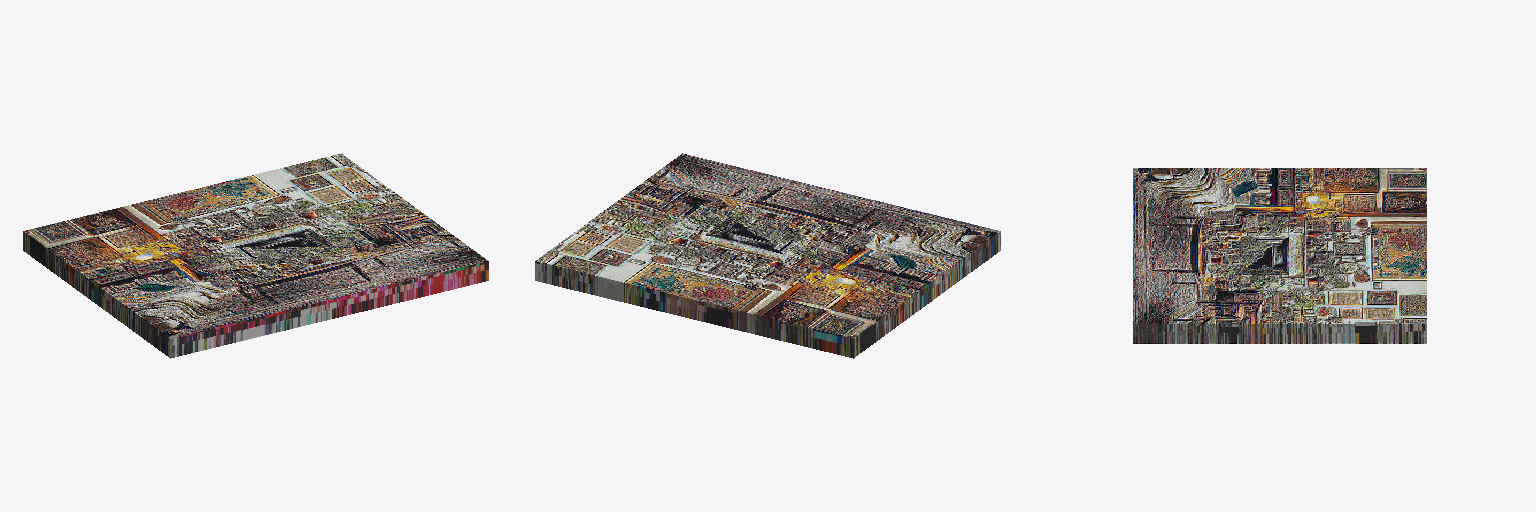
The picture shows the model from 3 angles: view 1: azimuth 30°, elevation 25°; view 2: azimuth 150°, elevation 25°; view 3: azimuth 270°, elevation 25°; orthographic projection.
Visible parts, largest first — view 1: obj1; view 2: obj1; view 3: obj1.
Boxes of the visible parts, <box> form: obj1: <box>23,153,488,358</box>; obj1: <box>535,153,1000,358</box>; obj1: <box>1133,168,1426,343</box>.
Bounding box in the file's own units: 0.6394 × 0.0383 × 0.512.
1 materials, 1 textured.